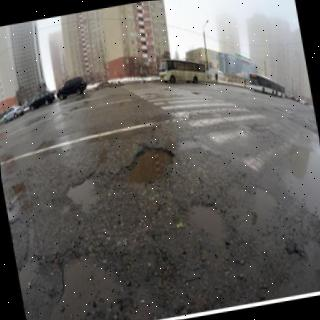pothole: (127, 148, 174, 191), (190, 206, 229, 239)
